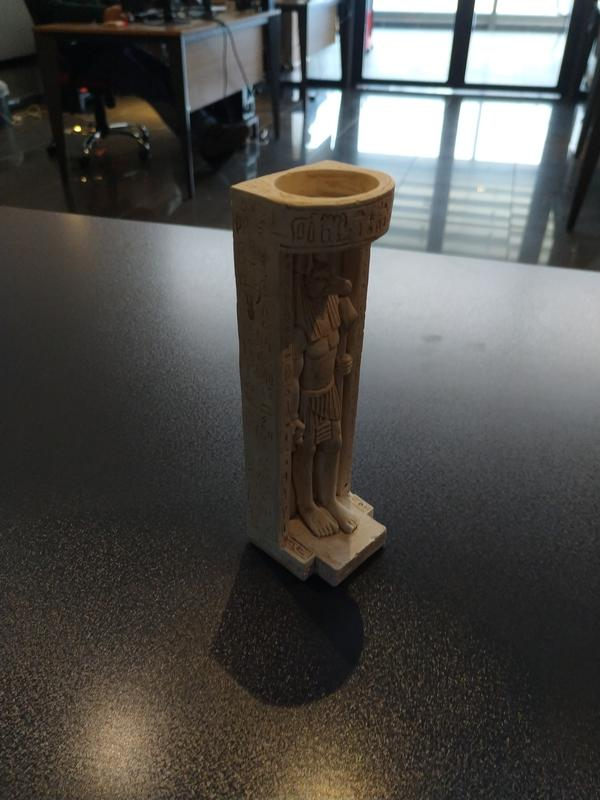heykel: (221, 150, 405, 601)
